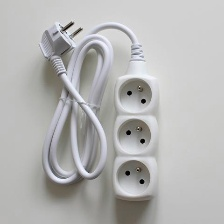three_eye_plug: (110, 72, 161, 205)
